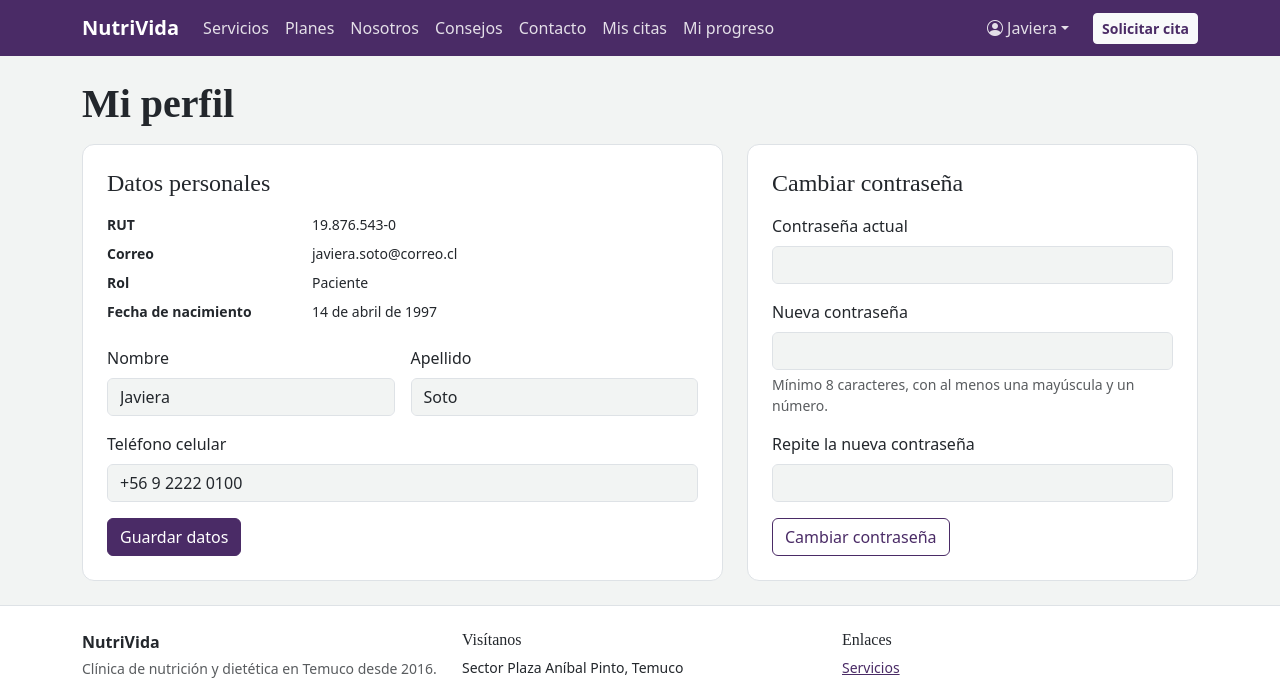
Scenario: Perfil › cambia la contraseña solo con la actual correcta y luego limpia el formulario
The width and height of the screenshot is (1280, 679).
In the password field labelled "Contraseña actual": (972, 265) [772, 246, 1173, 284], type "Mala2026!"
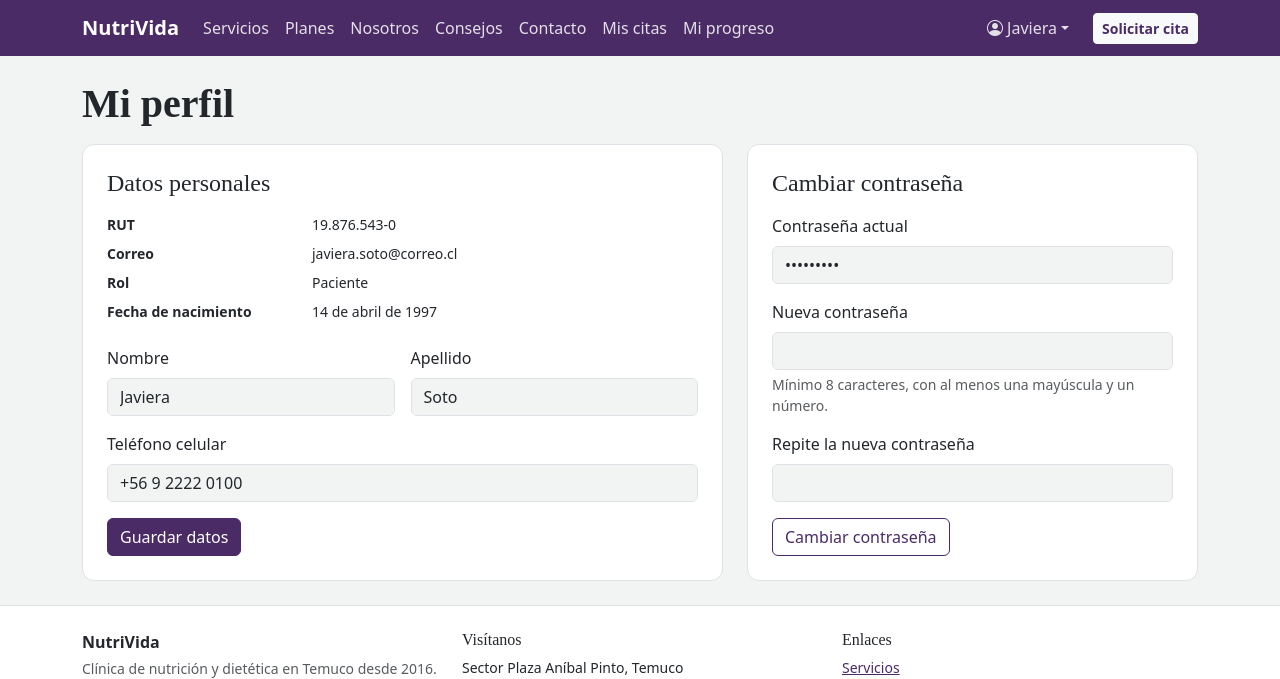
In the password field labelled "Nueva contraseña": (972, 351) [772, 332, 1173, 370], type "Nueva2027!"
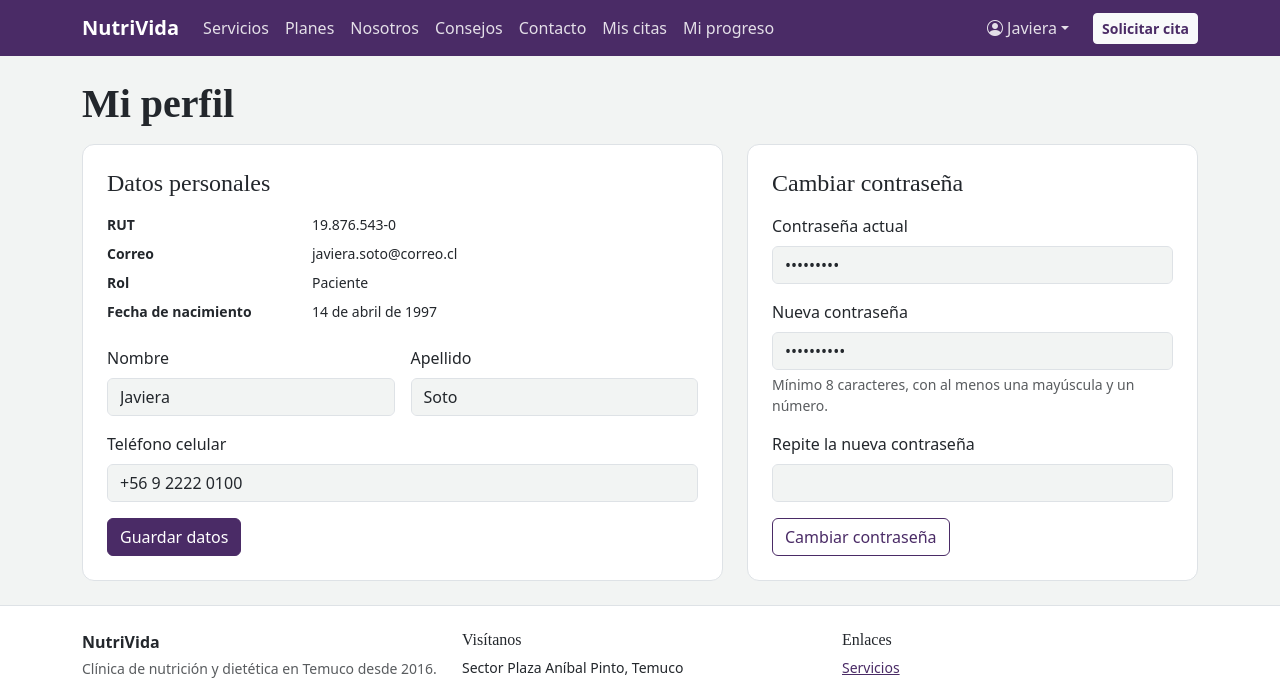
In the password field labelled "Repite la nueva contraseña": (972, 483) [772, 464, 1173, 502], type "Nueva2027!"
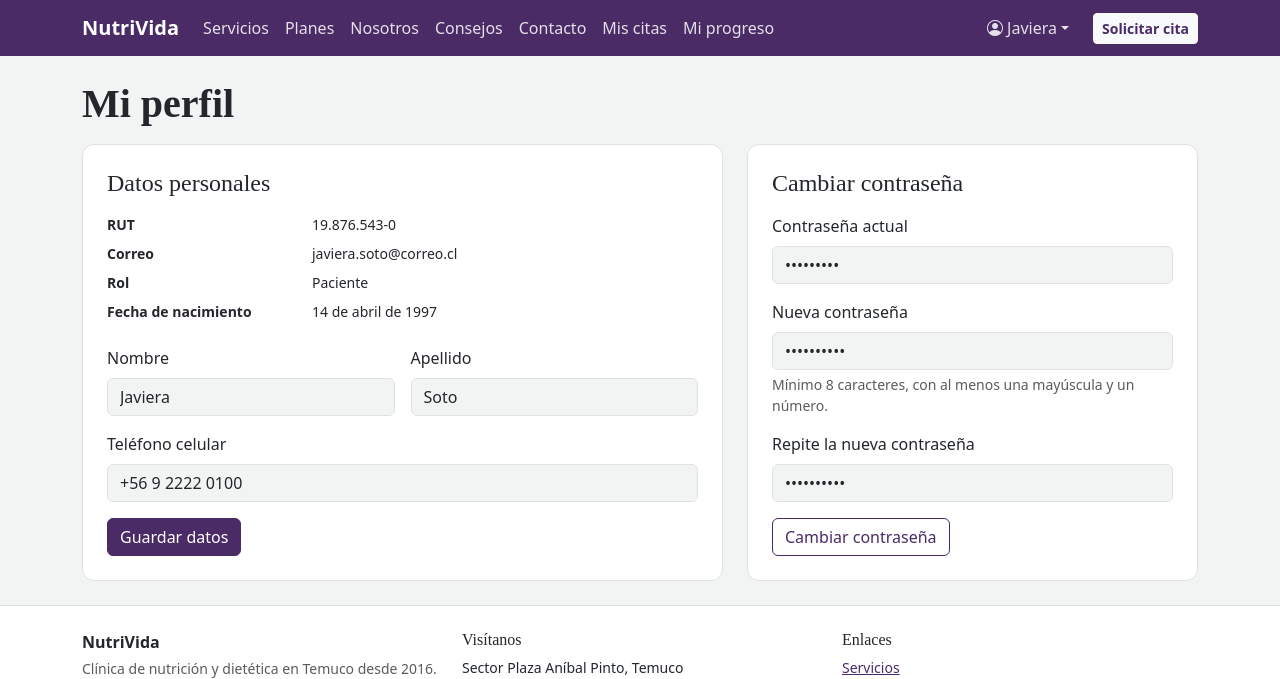
Click the button "Cambiar contraseña": (861, 537) [772, 518, 950, 556]
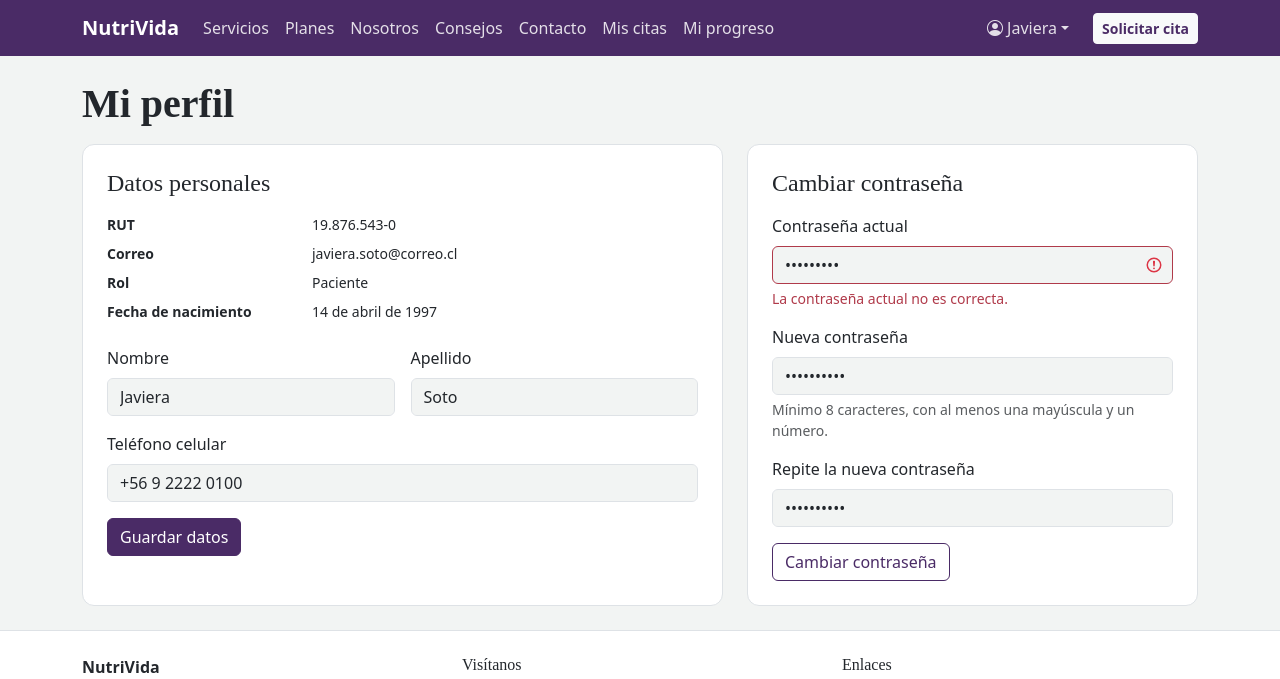
Now the text "La contraseña actual no es correcta." is shown, box [772, 289, 1008, 308]
In the password field labelled "Contraseña actual": (972, 265) [772, 246, 1173, 284], type "Paciente2026!"
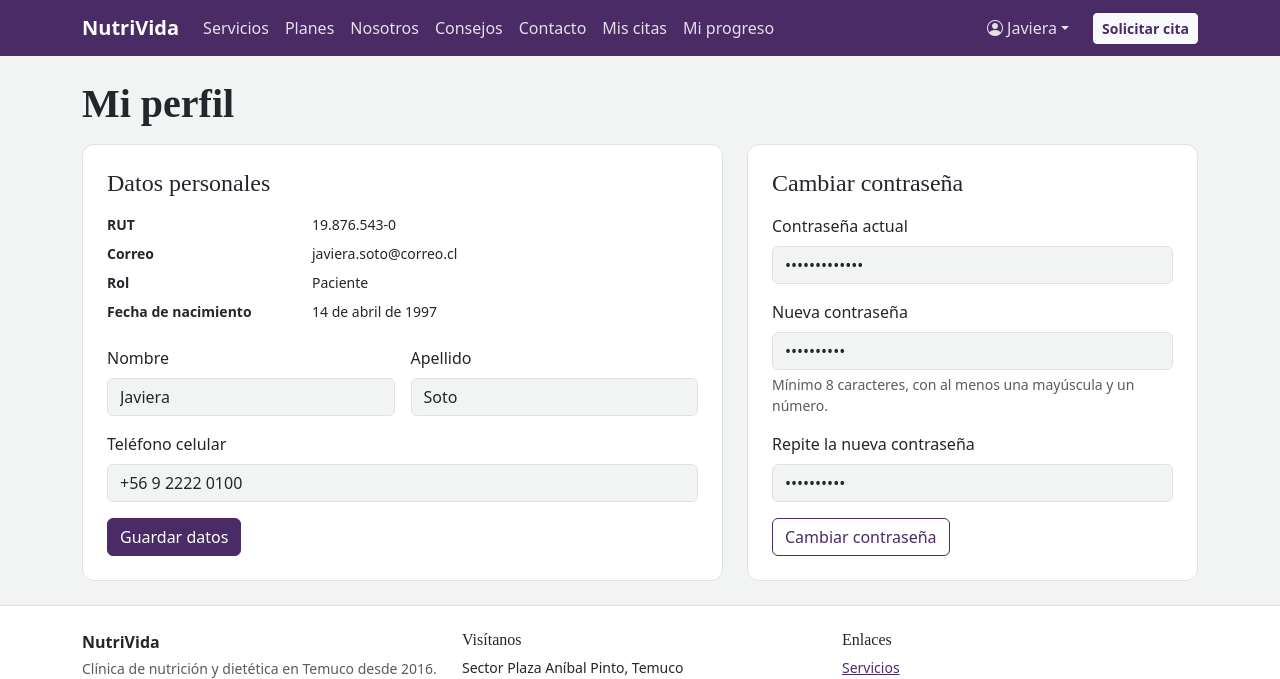
Click the button "Cambiar contraseña": (861, 537) [772, 518, 950, 556]
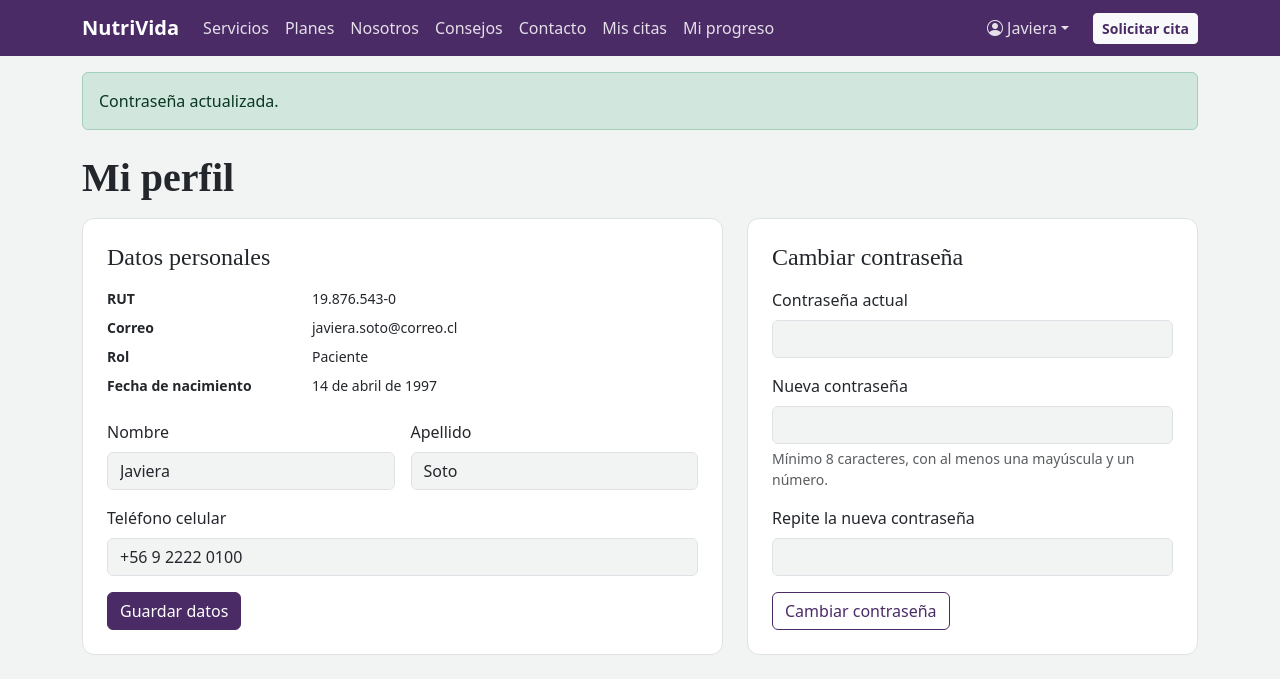
Now the message reads "Contraseña actualizada.", box [99, 90, 279, 112]
Now the password field labelled "Nueva contraseña" is empty, box [772, 406, 1173, 444]
